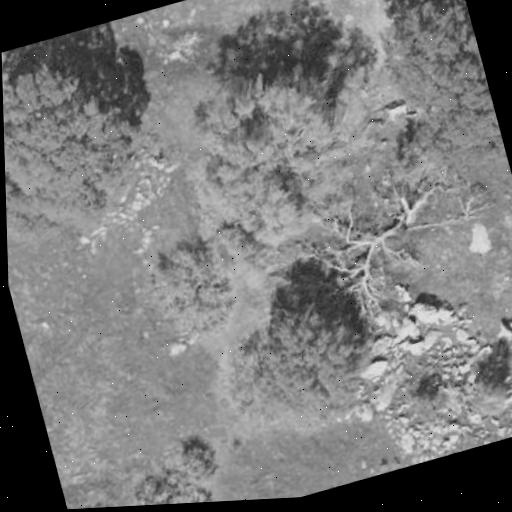tree-top: (159, 54, 379, 280), (1, 24, 172, 268), (192, 280, 384, 459), (297, 155, 481, 315), (365, 0, 505, 173), (125, 222, 255, 350), (55, 421, 235, 510)
